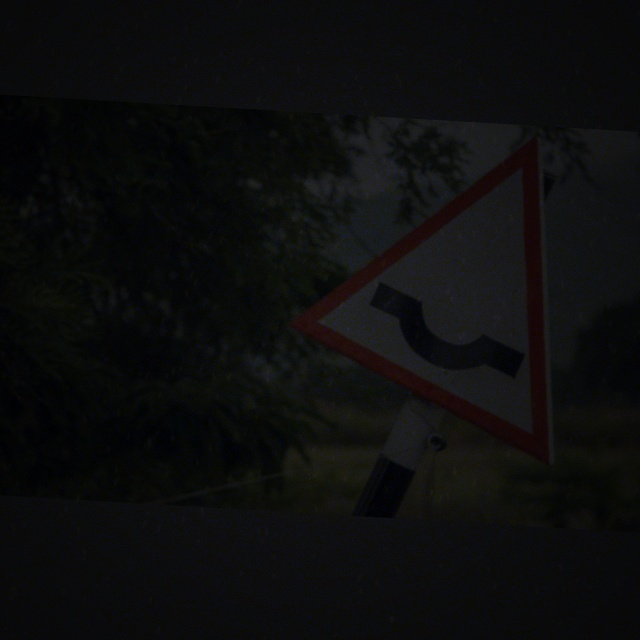Dangerous_Dip: (280, 126, 580, 448)
